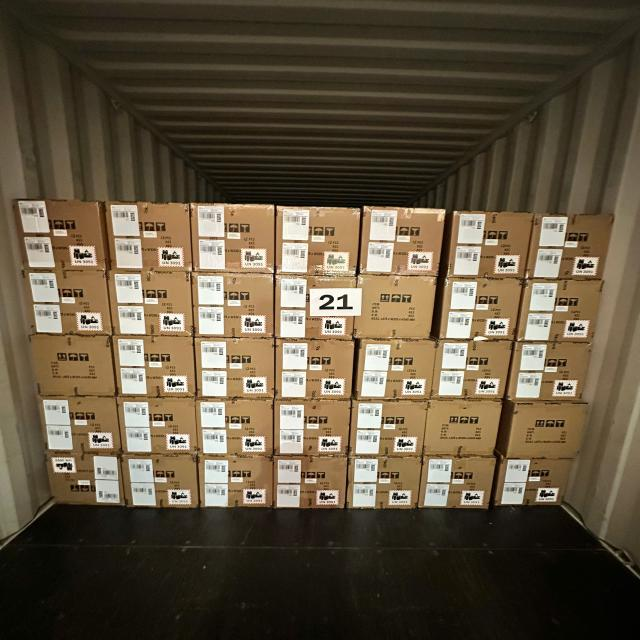Carton: (10, 197, 107, 273), (21, 269, 114, 337), (195, 206, 279, 278), (106, 201, 192, 271), (274, 273, 359, 342), (358, 208, 439, 279), (276, 208, 358, 278), (107, 271, 192, 336), (450, 209, 530, 278), (193, 274, 274, 342), (529, 217, 612, 282), (519, 282, 603, 346), (355, 276, 433, 344), (112, 335, 195, 398), (32, 334, 116, 396), (440, 282, 522, 344), (34, 394, 120, 453), (510, 341, 594, 401), (194, 337, 274, 399), (358, 339, 436, 400), (434, 341, 514, 400), (504, 402, 588, 458), (279, 338, 356, 399), (196, 398, 274, 458), (118, 397, 198, 455), (118, 456, 198, 512), (424, 400, 502, 457), (349, 400, 425, 458), (43, 456, 124, 510), (274, 399, 350, 456), (422, 457, 497, 512), (196, 458, 272, 512), (494, 460, 574, 510), (274, 459, 348, 513), (347, 459, 420, 513)
